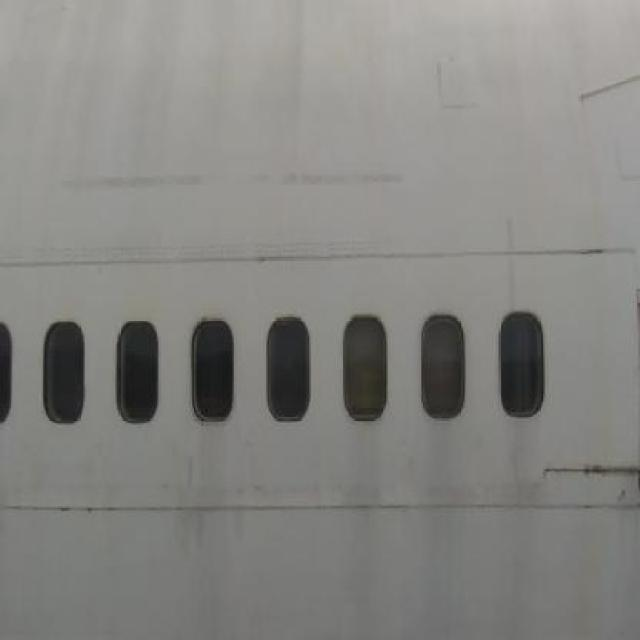Rust: (572, 432, 640, 496)
Scartch: (58, 157, 439, 217)
